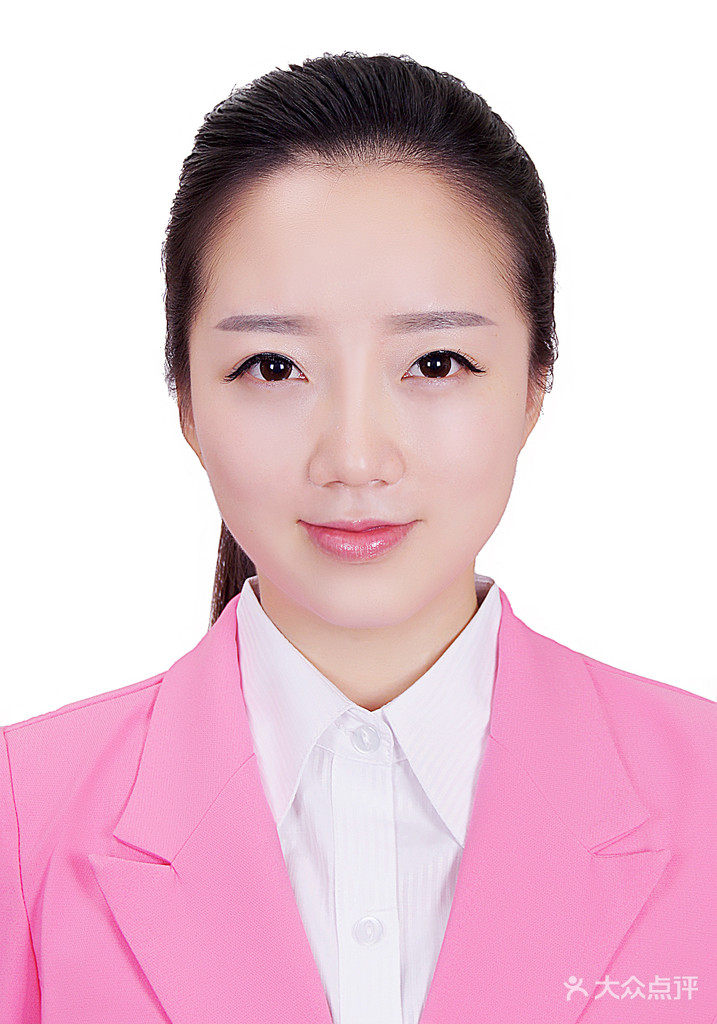unmask: (197, 193, 533, 617)
